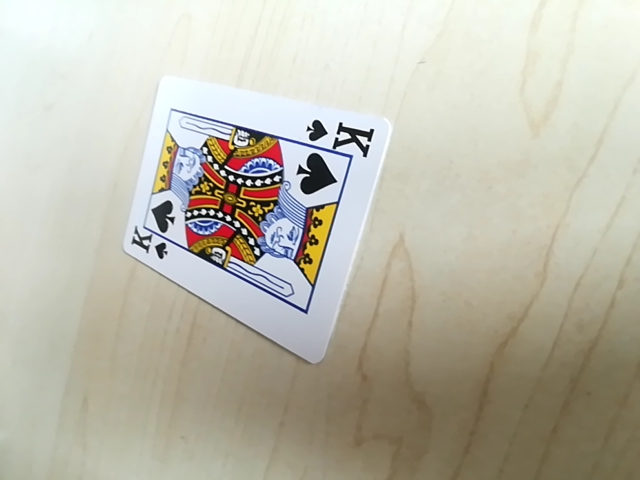ht k: (298, 116, 377, 152), (126, 224, 170, 262)
